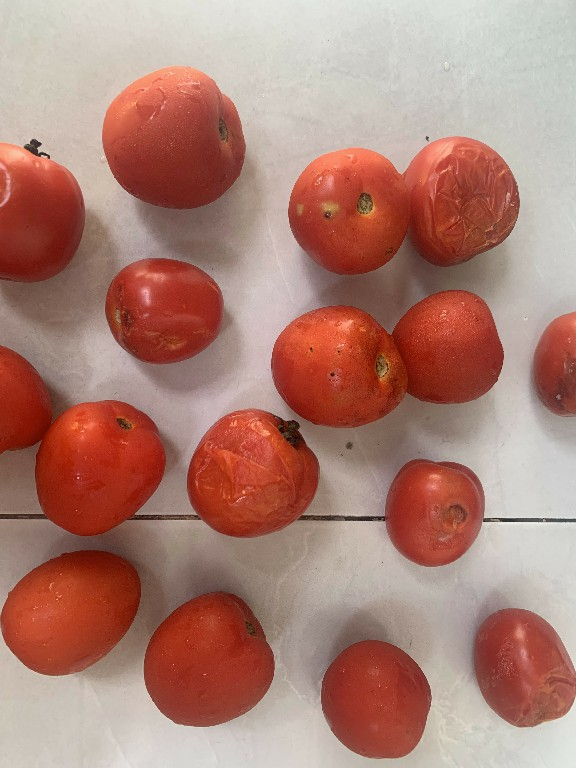NG: (262, 294, 409, 433), (181, 401, 326, 539), (403, 110, 525, 272), (280, 135, 404, 275), (94, 249, 234, 372), (377, 445, 495, 581), (467, 597, 576, 736), (530, 294, 576, 433)
OK: (94, 49, 256, 223), (141, 581, 283, 737), (29, 396, 172, 540), (0, 539, 143, 679), (308, 633, 452, 768), (391, 283, 511, 416), (0, 334, 66, 456)
